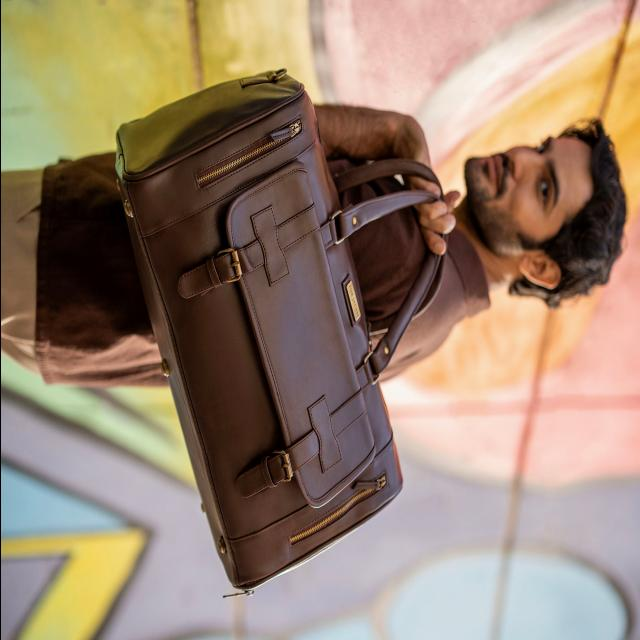backpack: (114, 70, 448, 600)
